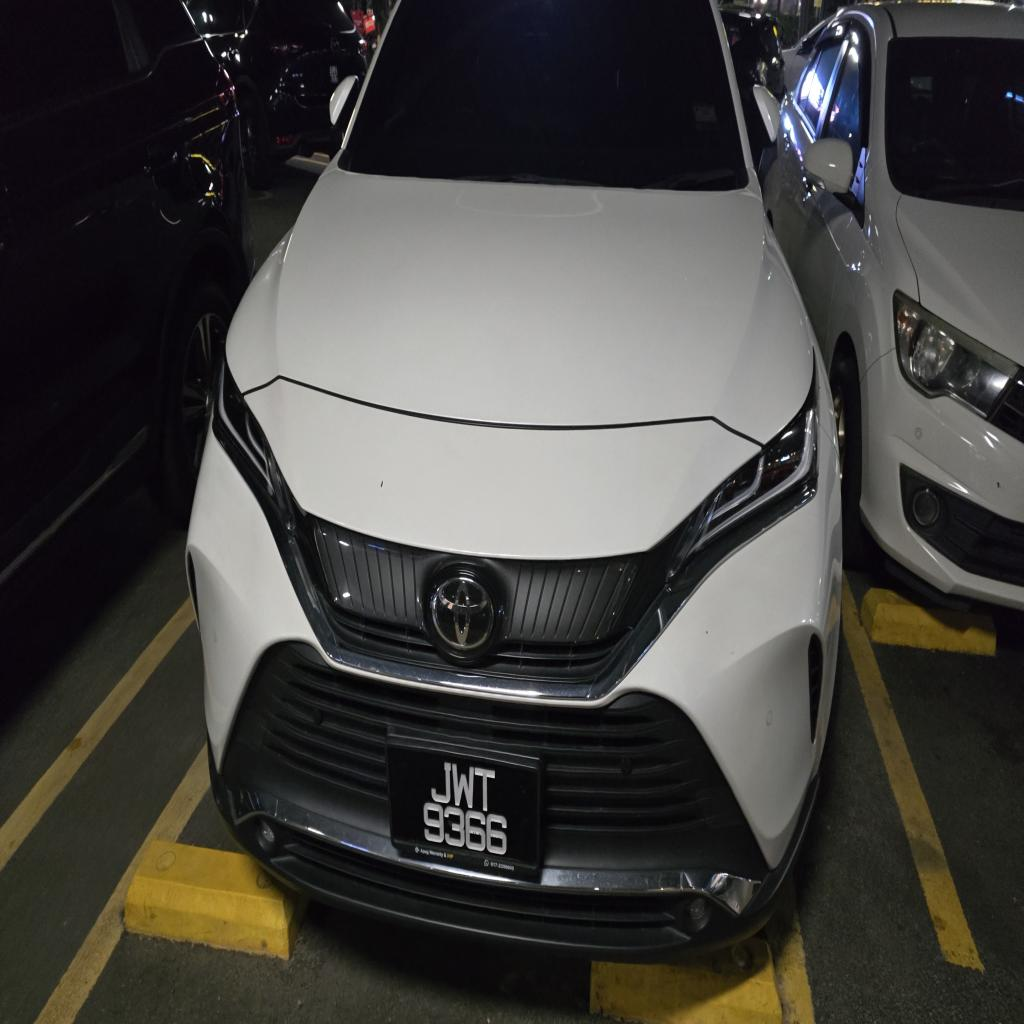car: (187, 0, 841, 961)
car plate: (387, 736, 539, 877)
